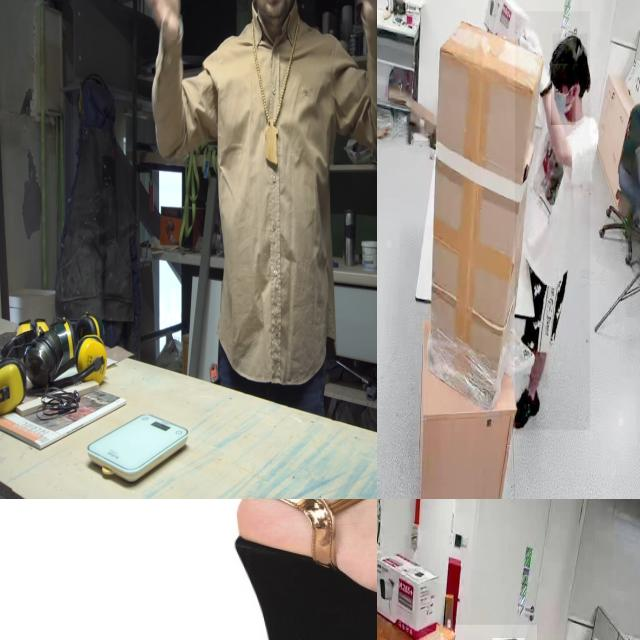Sandals: (231, 499, 377, 640)
face_mask: (551, 78, 575, 125)
head_nohelmet: (552, 34, 588, 64)
person: (136, 0, 377, 414), (515, 11, 591, 431)
shoes: (510, 380, 540, 439)
